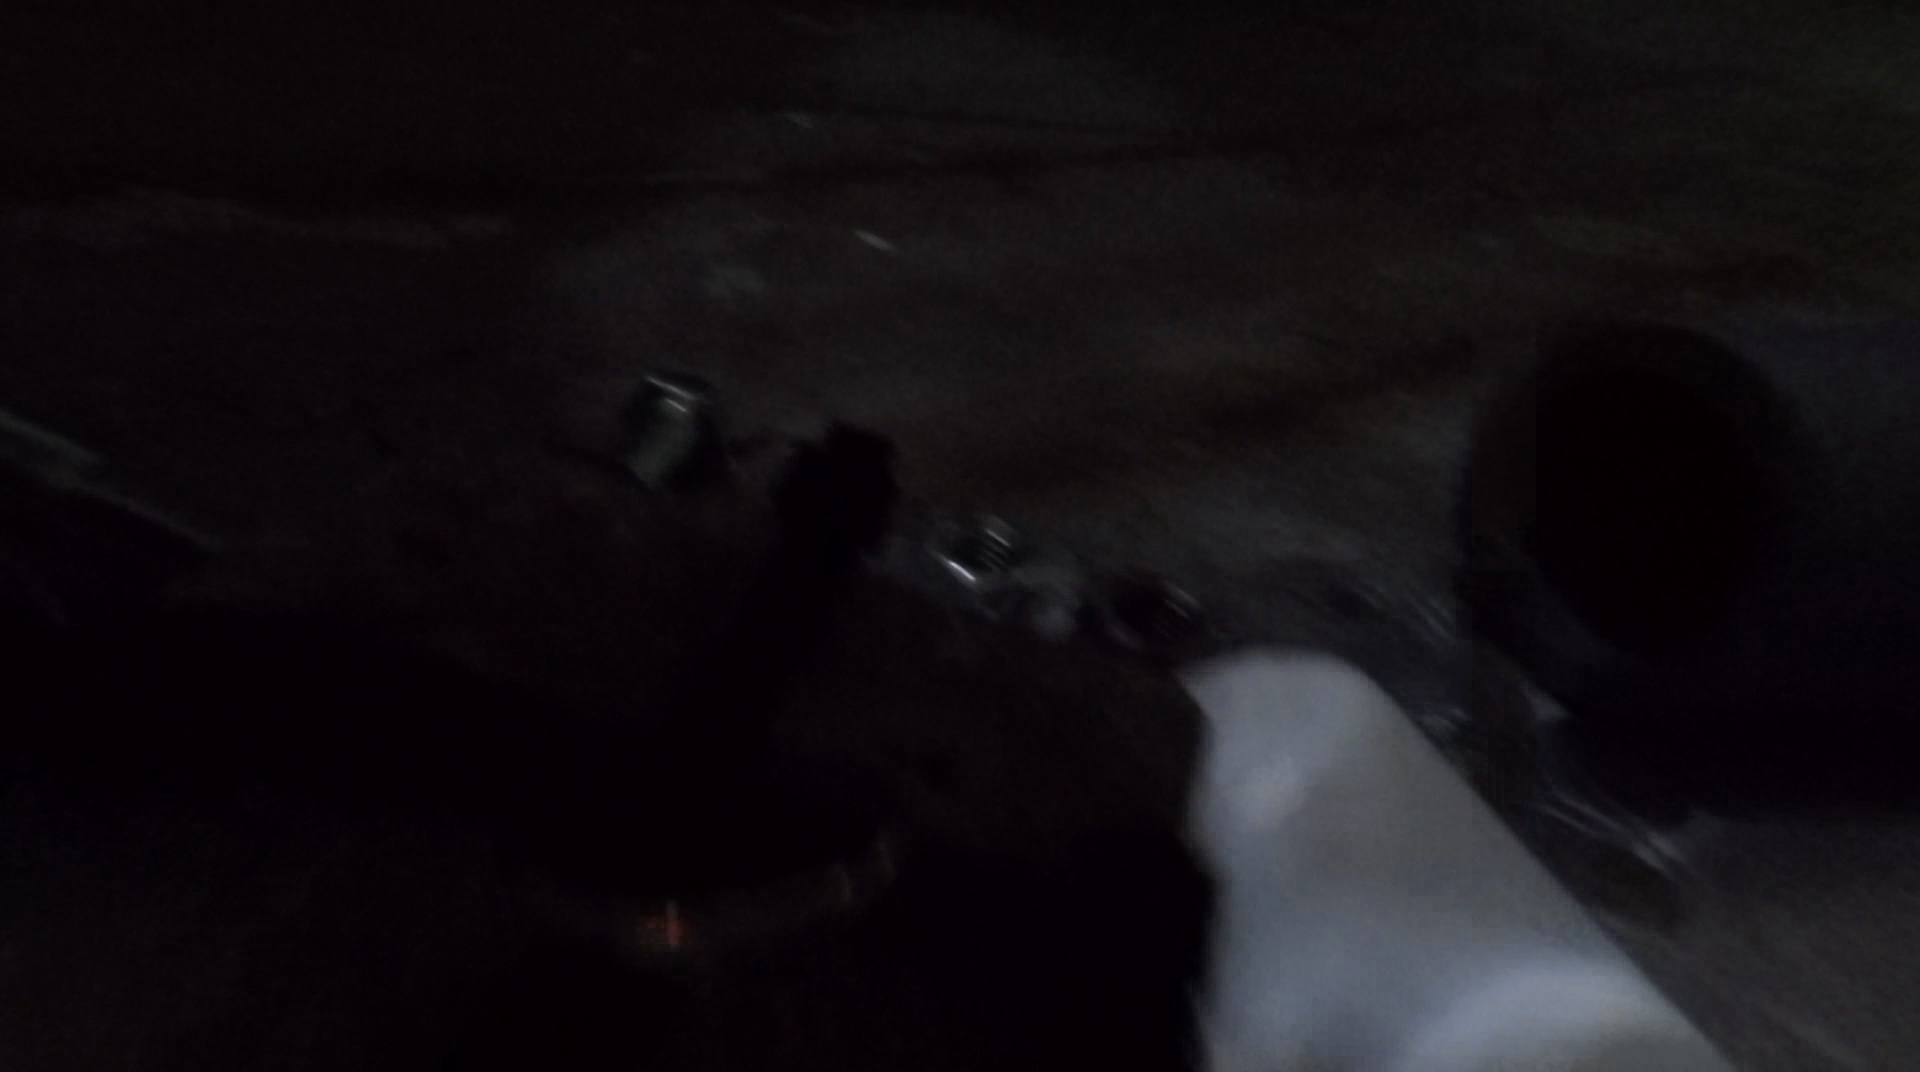bolt: (622, 368, 728, 480)
nut: (1062, 574, 1209, 650), (919, 505, 1025, 595)
pipe: (1178, 641, 1737, 1072), (1451, 314, 1920, 753)
